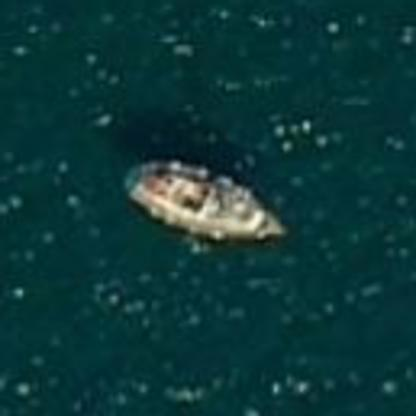ship: (116, 146, 298, 261)
